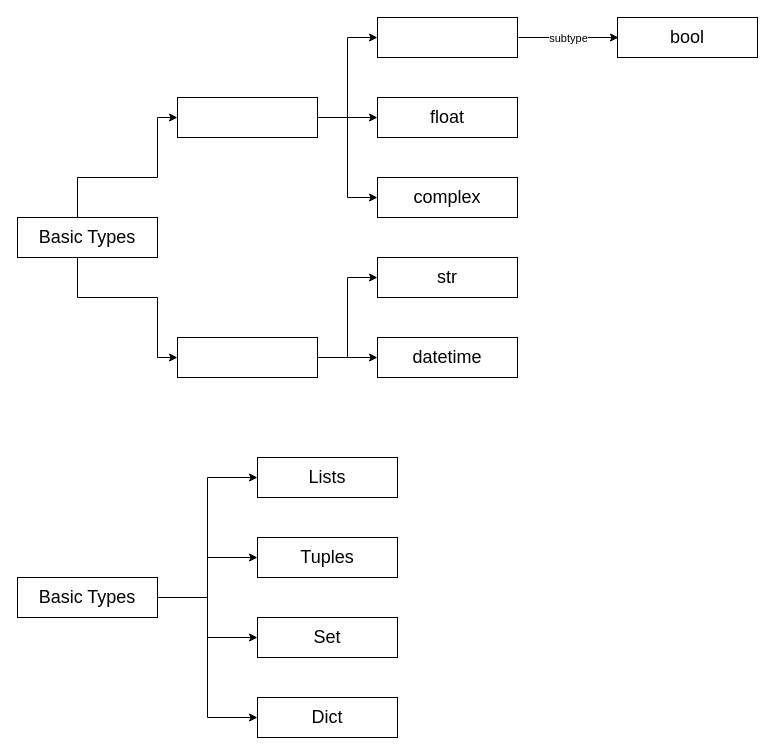
This 775x755 diagram has some shape labels left out. Here are the shapes that lost their labels. From the top down, the centre of each, then its label:
At (x=447, y=37): "int".
At (x=247, y=117): "Numeric types".
At (x=247, y=357): "Text types".
